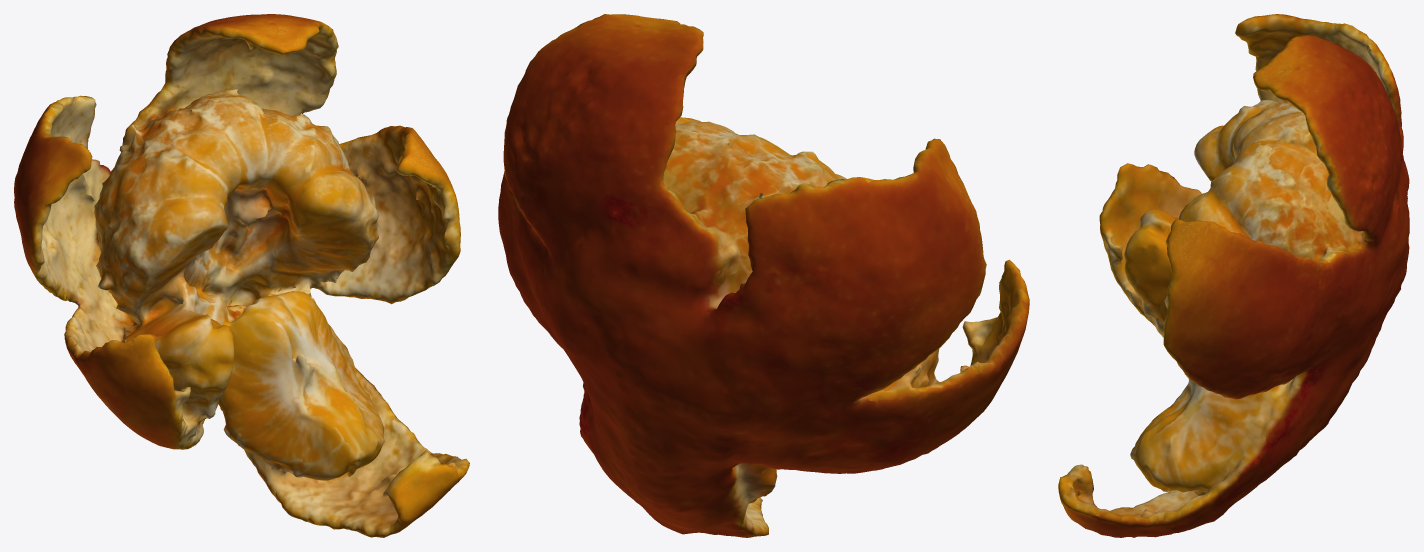
File: mandarin.glb
3 renders of one model, left to right at view 1: azimuth 30°, elevation 25°; view 2: azimuth 150°, elevation 25°; view 3: azimuth 270°, elevation 25°, orthographic. The views are drawn at different scales.
Visible parts, largest first — view 1: MandarinOrange; view 2: MandarinOrange; view 3: MandarinOrange.
Boxes of the visible parts, x1,y1,x2,y2 form: MandarinOrange: (14, 14, 469, 537); MandarinOrange: (498, 14, 1029, 537); MandarinOrange: (1058, 14, 1409, 537).
Bounding box in the file's own units: 0.0157 × 0.0174 × 0.0119.
Materials: 1 (1 with a texture image).
